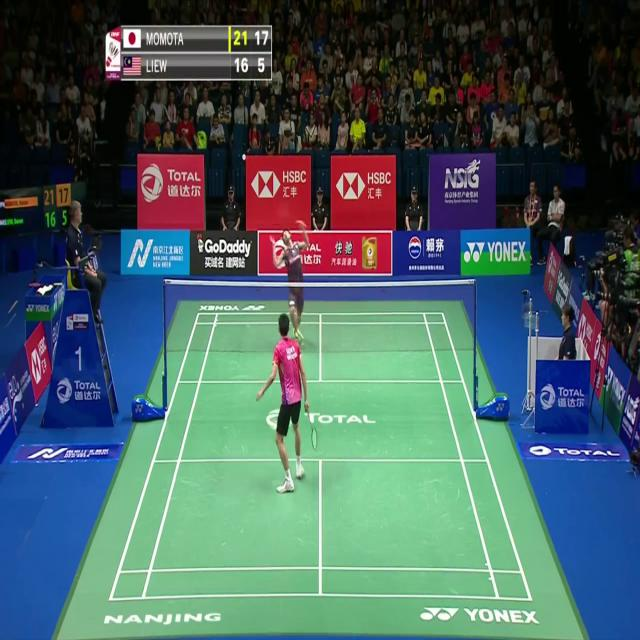Shuttlecock: (241, 152, 247, 163)
